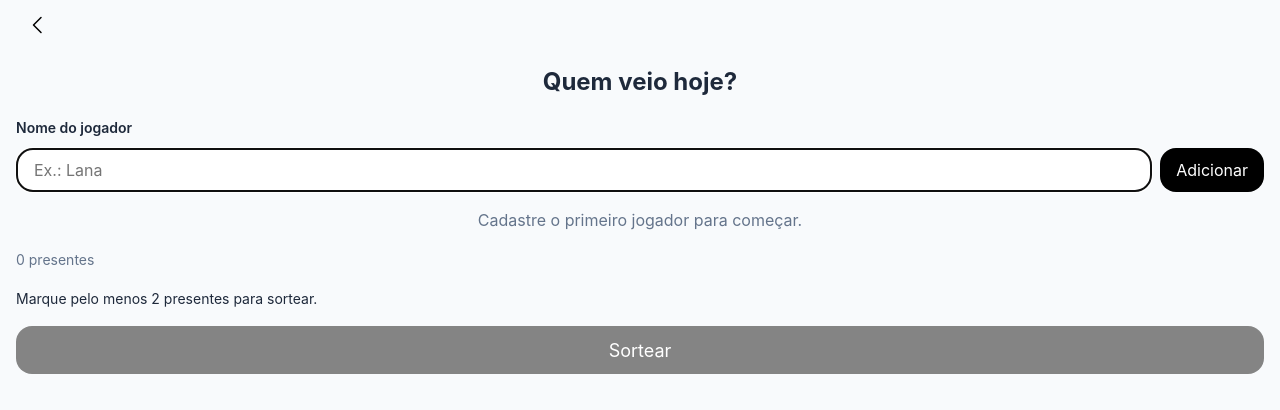
RosterScreen — comportamento (US1.2) › cadastrar nome válido adiciona o chip na lista
This screenshot has width=1280, height=410.
Type "Lana" into the field with test id "roster-name-input".
click(584, 170); type("Lana")  # box 16,148 -> 1152,192
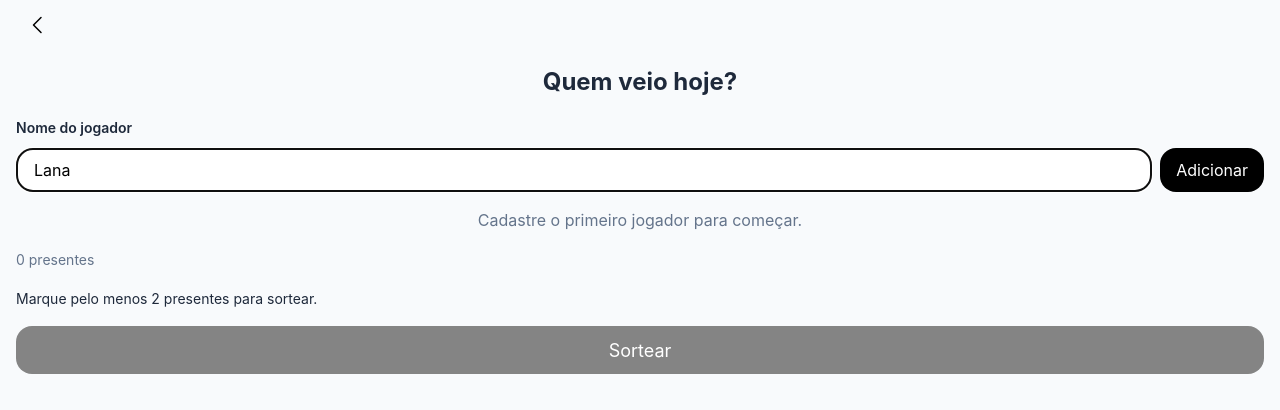
Click the button with test id "roster-add-button".
click(1212, 170)  # box 1160,148 -> 1264,192
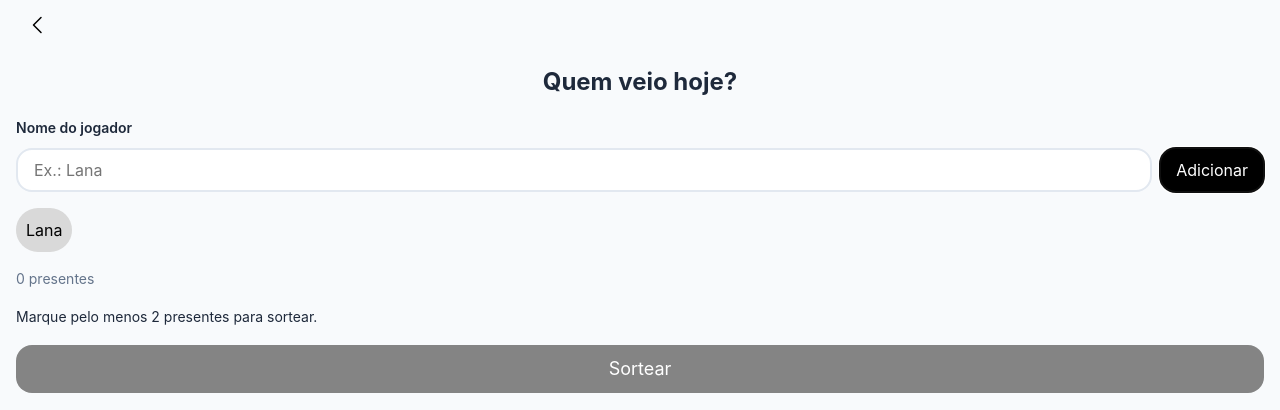
Expected: the button "Lana" is shown, 16,208 -> 72,252
